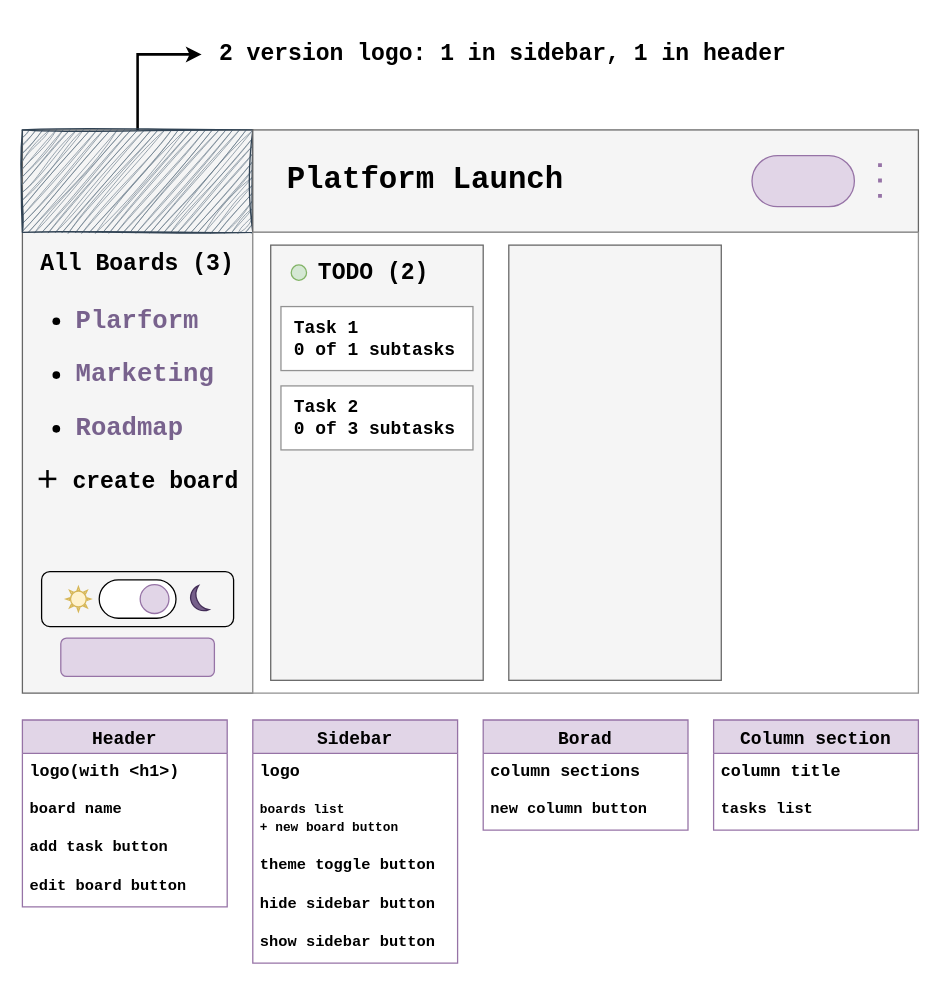
Image size: 941x989. Some labels were removed from this diagram. The centre of each missing label's shape, as x and y in pixels:
Hide Sidebar: (137,656)
＋Add: (802,180)
＋New Column: (614,462)
